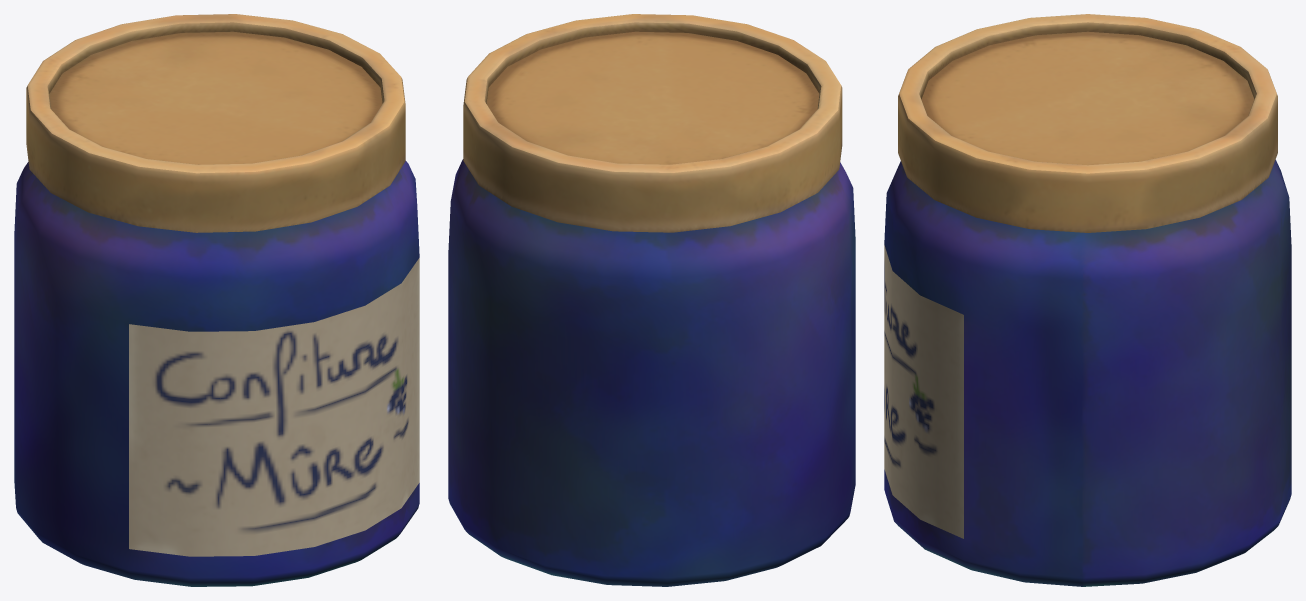
The model's file is SM_FoodPot_07.fbx.
3 renders of one model, left to right at view 1: azimuth 30°, elevation 25°; view 2: azimuth 150°, elevation 25°; view 3: azimuth 270°, elevation 25°, orthographic.
Visible parts, largest first — view 1: SM_FoodPot_07_LOD0; view 2: SM_FoodPot_07_LOD0; view 3: SM_FoodPot_07_LOD0.
Part boxes in pixels (x1=…): SM_FoodPot_07_LOD0: x1=14, y1=14, x2=419, y2=586; SM_FoodPot_07_LOD0: x1=448, y1=14, x2=855, y2=586; SM_FoodPot_07_LOD0: x1=884, y1=14, x2=1291, y2=586.
Size of the model in its own units: 9.55 by 9.55 by 10.78.
Materials: 2 (2 with a texture image).
